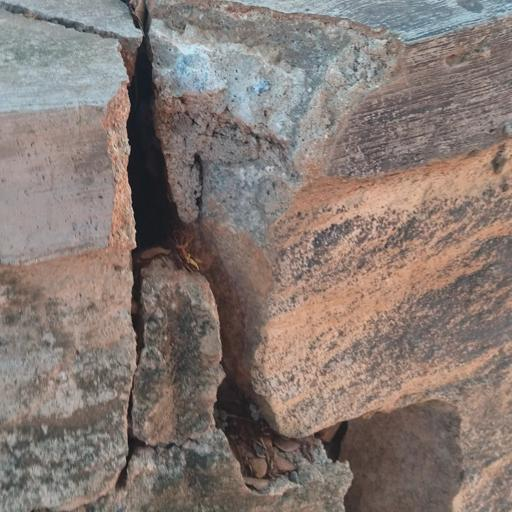major_crack: (1, 0, 466, 512)
